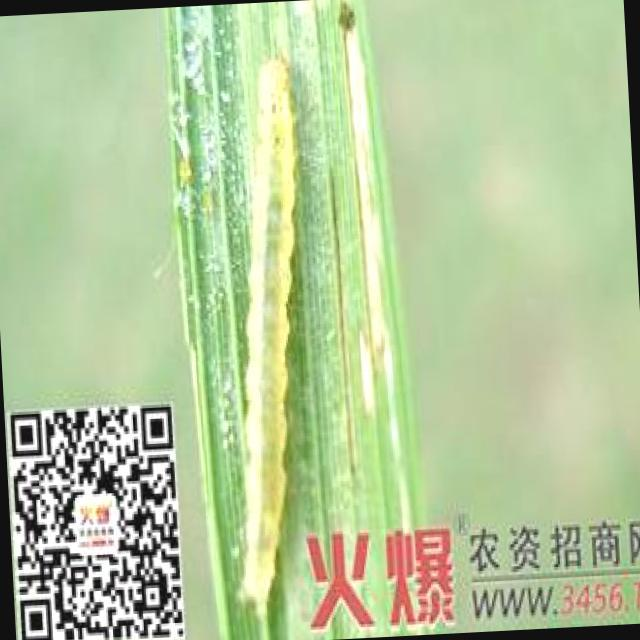leaf folder: (241, 58, 297, 614)
